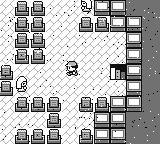main: (65, 61, 78, 76)
no-caminable: (96, 1, 142, 139), (125, 0, 159, 143), (14, 96, 62, 143), (13, 0, 47, 64), (78, 96, 110, 112), (78, 16, 110, 32), (0, 65, 13, 96), (78, 129, 94, 143)
npc: (16, 77, 28, 91), (80, 0, 92, 11)
puerta: (110, 63, 126, 80)
